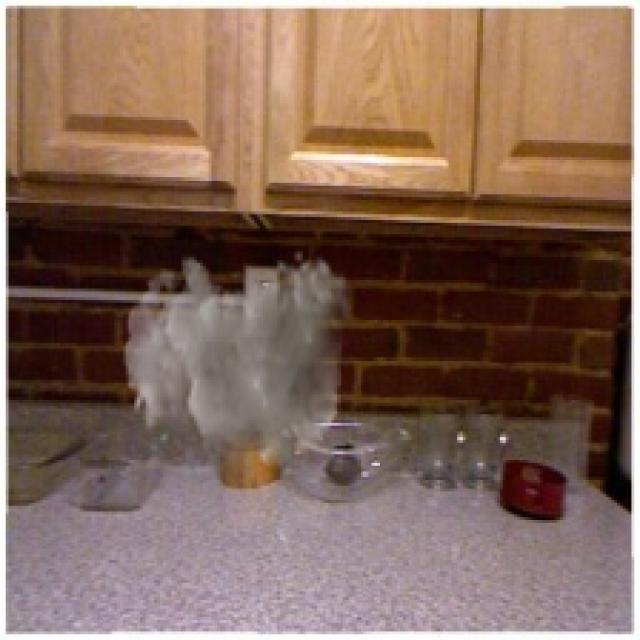smoke: (123, 249, 351, 497)
